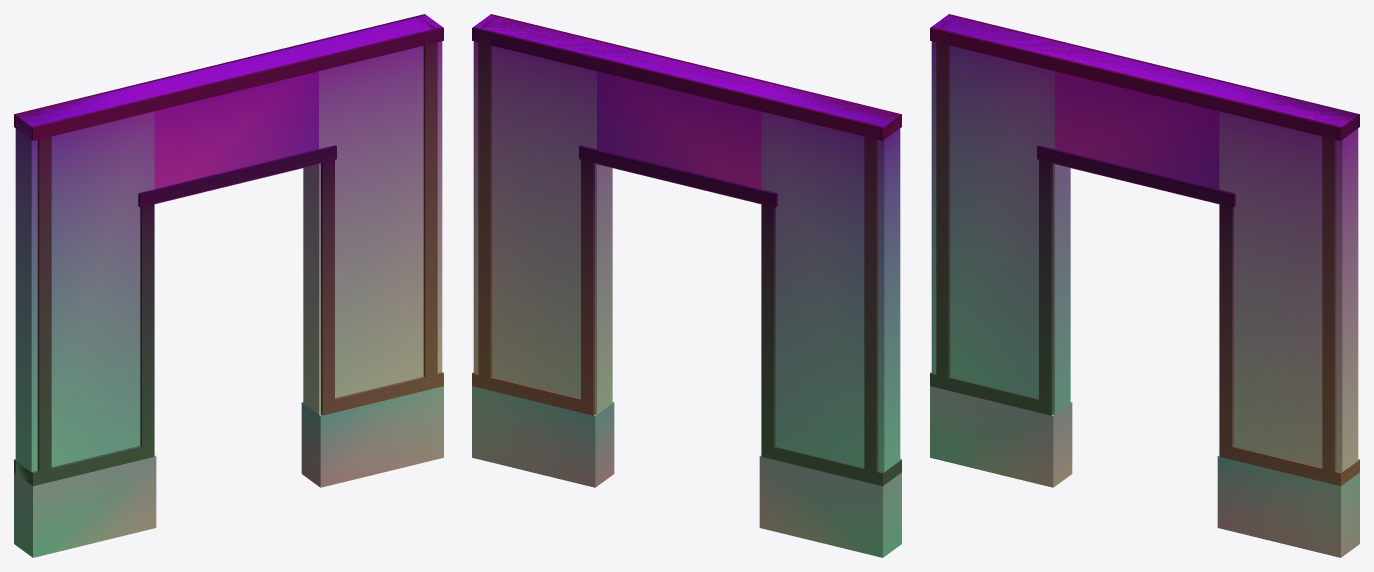
Rendered from burg_wall_3m_door.glb.
The picture shows the model from 3 angles, left to right: view 1: azimuth 30°, elevation 25°; view 2: azimuth 150°, elevation 25°; view 3: azimuth 330°, elevation 25°; orthographic projection.
Visible parts, largest first — view 1: plaster, timbers, base_course; view 2: plaster, timbers, base_course; view 3: plaster, timbers, base_course.
Boxes of the visible parts, x1,y1,x2,y2 form: plaster: [15, 15, 442, 482]; timbers: [14, 14, 443, 486]; base_course: [14, 386, 443, 557]; plaster: [473, 15, 900, 472]; timbers: [472, 14, 901, 486]; base_course: [472, 386, 901, 557]; plaster: [931, 15, 1358, 472]; timbers: [930, 14, 1359, 486]; base_course: [930, 386, 1359, 557].
Size of the model in its own units: 3 by 3 by 0.24.
